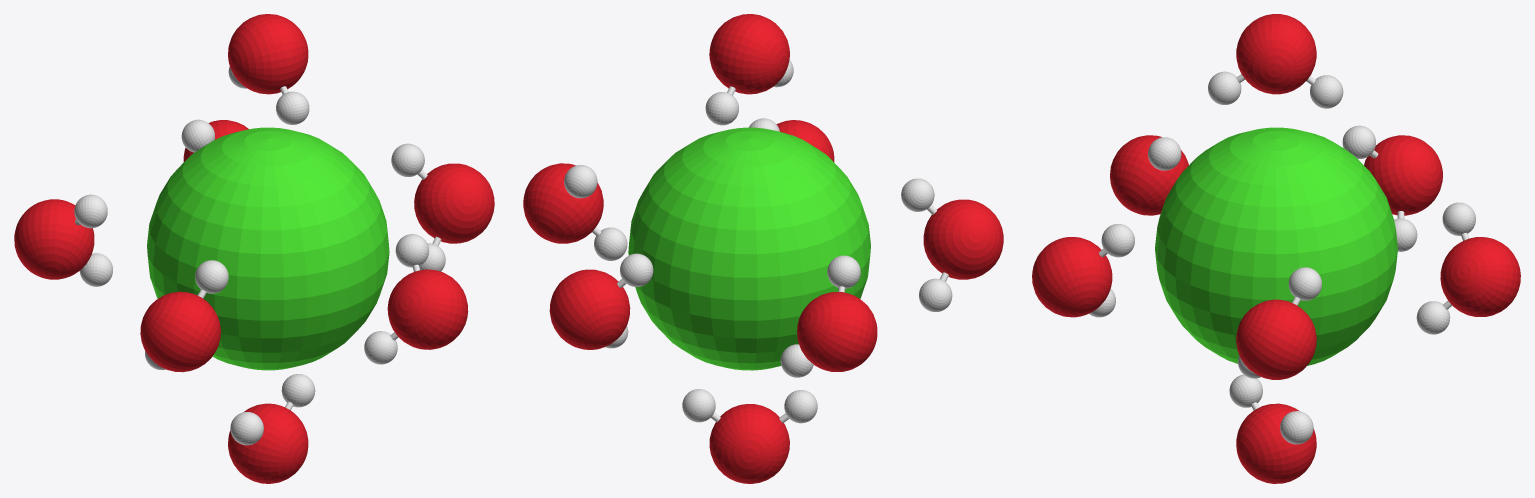
File: Hydrated_Chloride_joined.fbx
3 renders of one model, left to right at view 1: azimuth 30°, elevation 25°; view 2: azimuth 150°, elevation 25°; view 3: azimuth 270°, elevation 25°, orthographic.
Parts seen in each view (by area): view 1: Sphere.006; view 2: Sphere.006; view 3: Sphere.006.
Part boxes in pixels (bbox=[...]): Sphere.006: bbox=[14, 14, 494, 483]; Sphere.006: bbox=[523, 14, 1003, 483]; Sphere.006: bbox=[1032, 14, 1520, 483].
Bounding box in the file's own units: 699 × 760 × 728.
